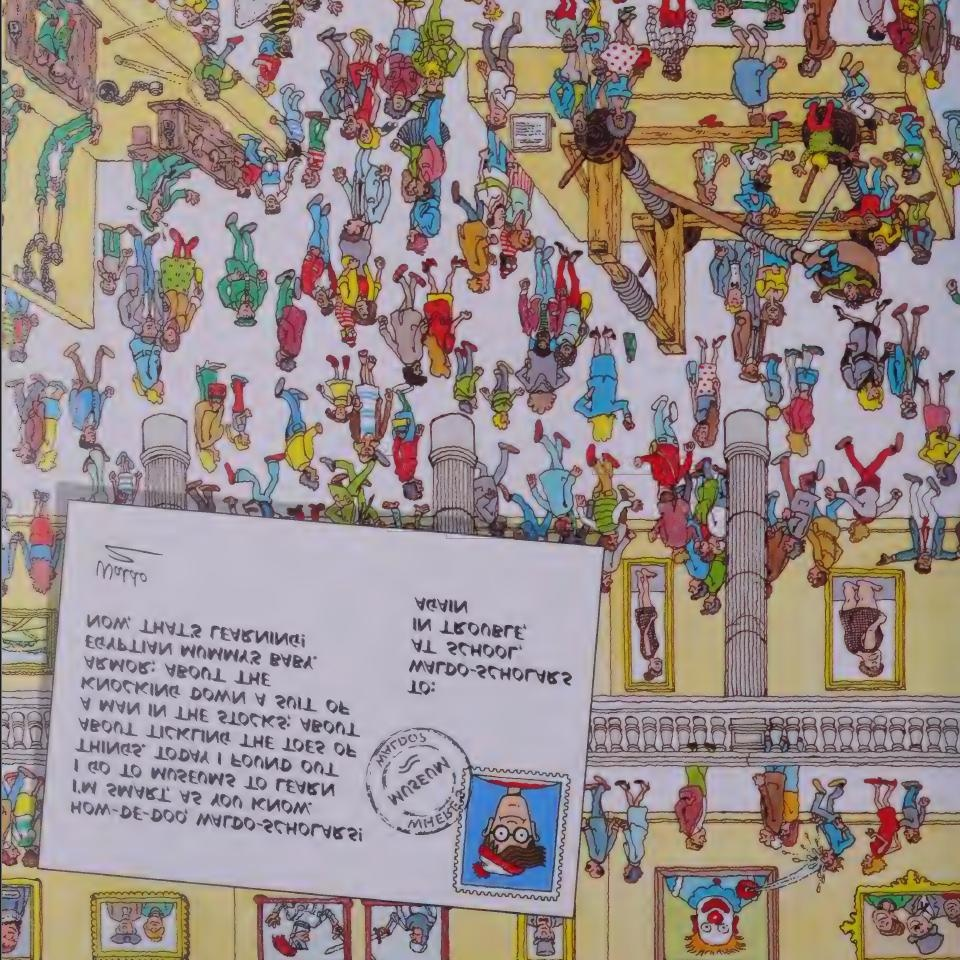waldo: (471, 779, 560, 878)
